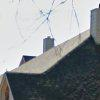Chimney: (36, 26, 60, 54)
